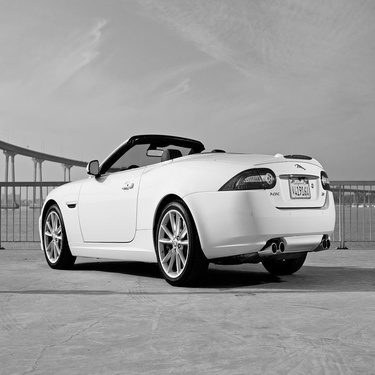car: (18, 118, 348, 271)
